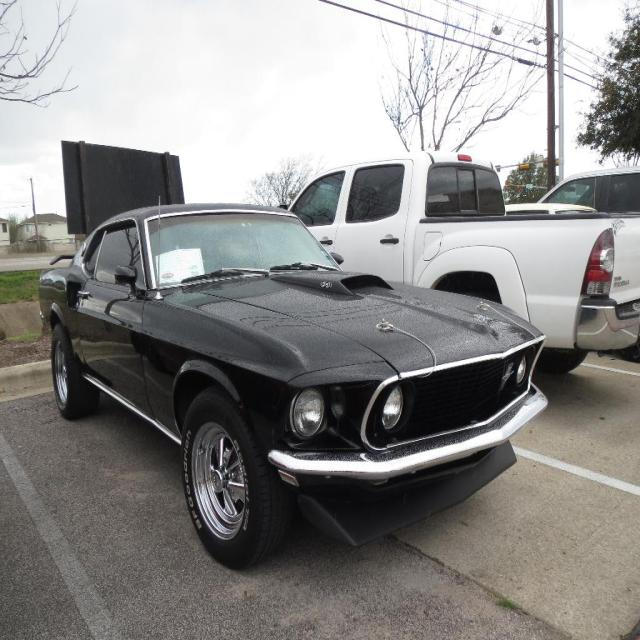car: (40, 199, 544, 550)
